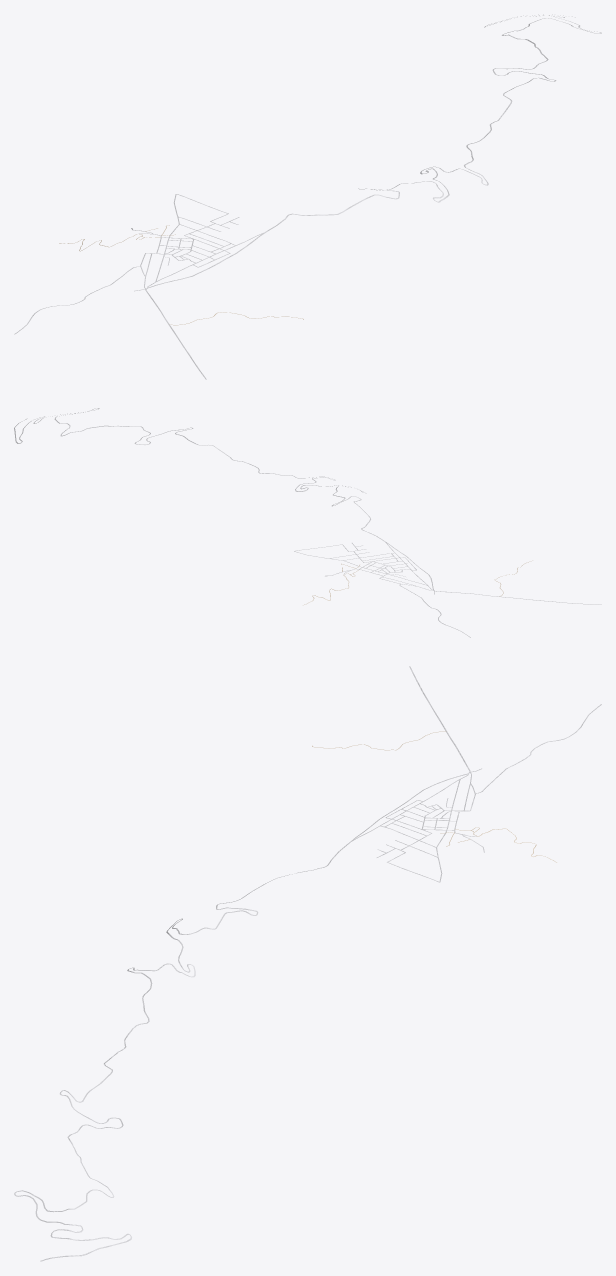
The model's file is strade_canolo.obj.
3 renders of one model, top to bottom at view 1: azimuth 90°, elevation 25°; view 2: azimuth 150°, elevation 25°; view 3: azimuth 270°, elevation 25°, orthographic. The views are drawn at different scales.
Visible parts, largest first — view 1: cemento_000; view 2: cemento_000; view 3: cemento_000.
Part boxes in pixels (<box>): cemento_000: <box>14,14,601,379</box>; cemento_000: <box>14,408,601,637</box>; cemento_000: <box>14,666,601,1261</box>.
Bounding box in the file's own units: 5015 × 586 × 2601.
Materials: 2 (2 with a texture image).
